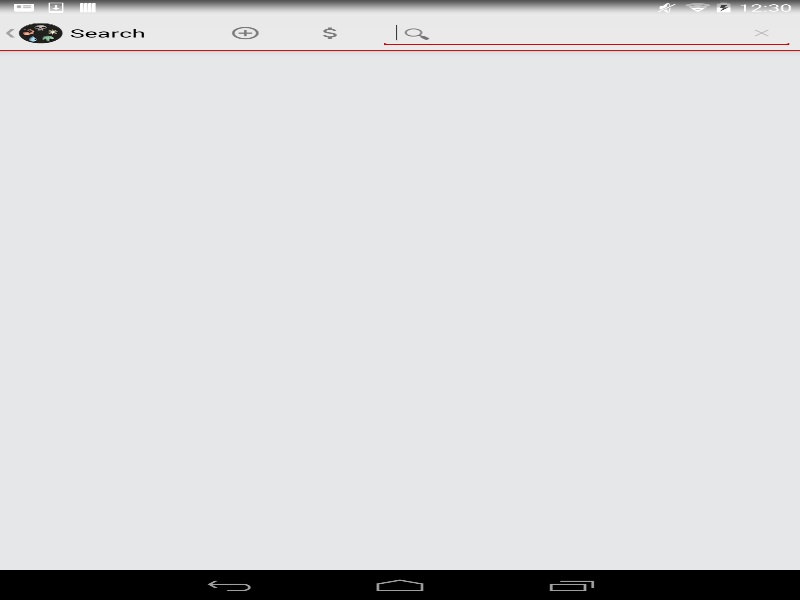Input: (385, 21, 736, 44)
